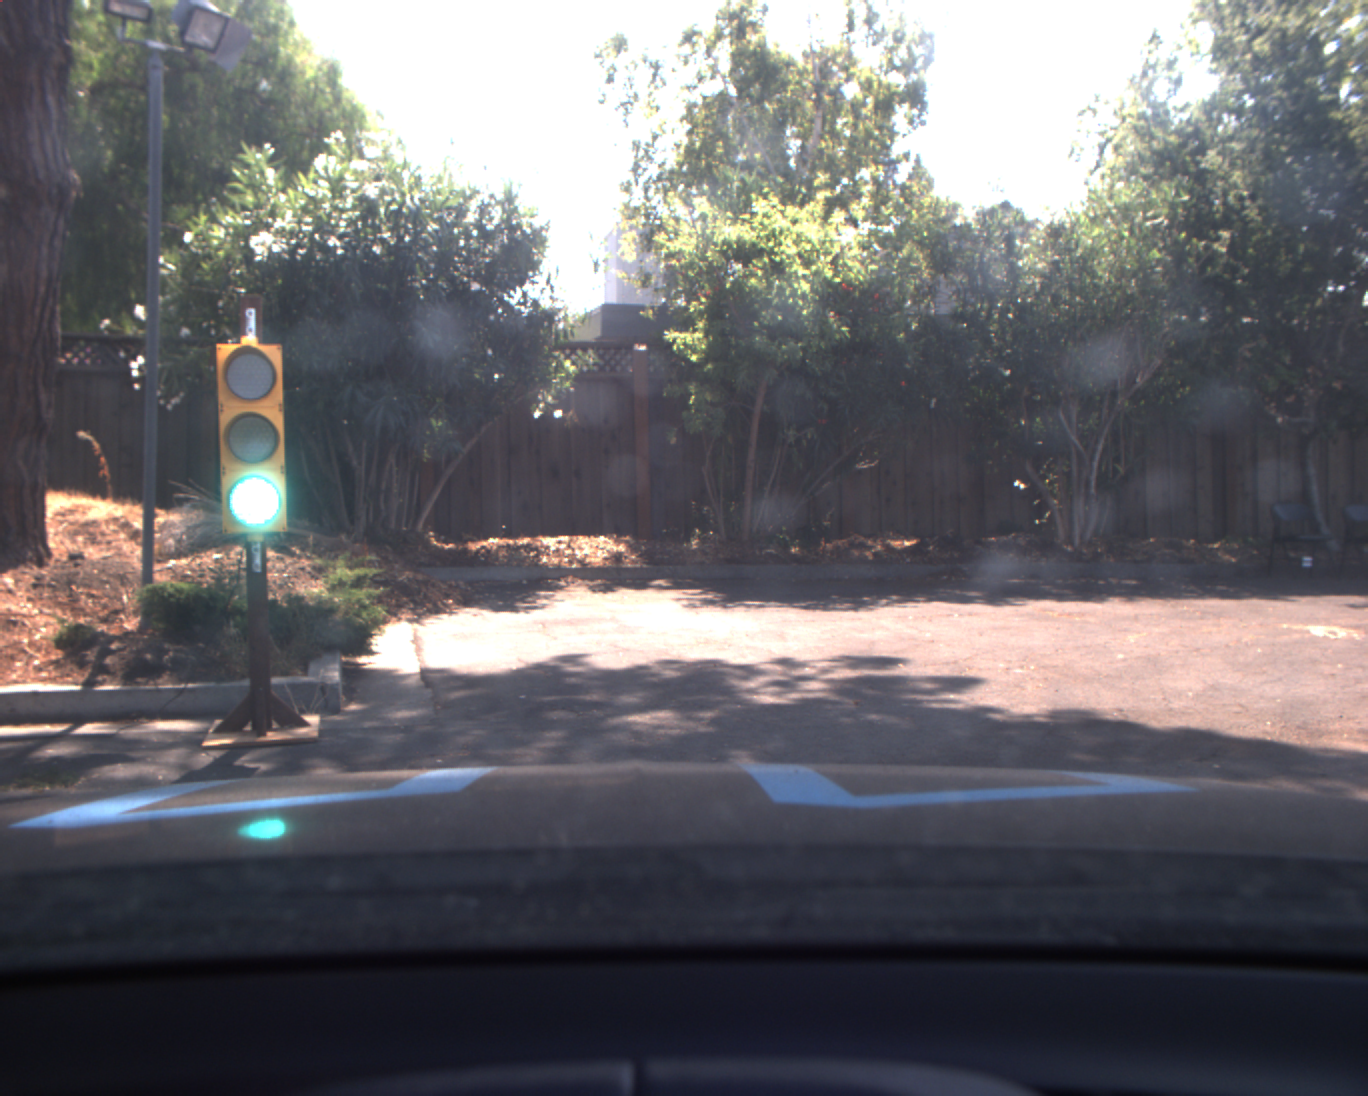green: (213, 339, 295, 538)
